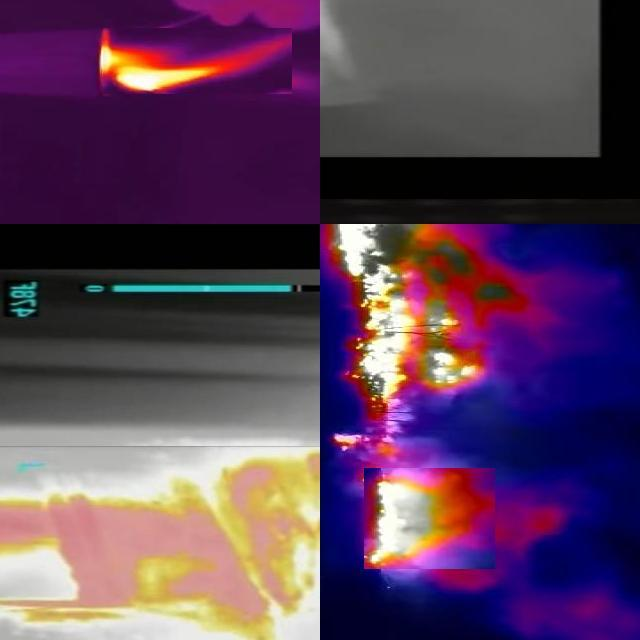fire: (1, 447, 321, 640), (325, 225, 516, 458), (364, 469, 495, 570), (101, 29, 292, 95)
